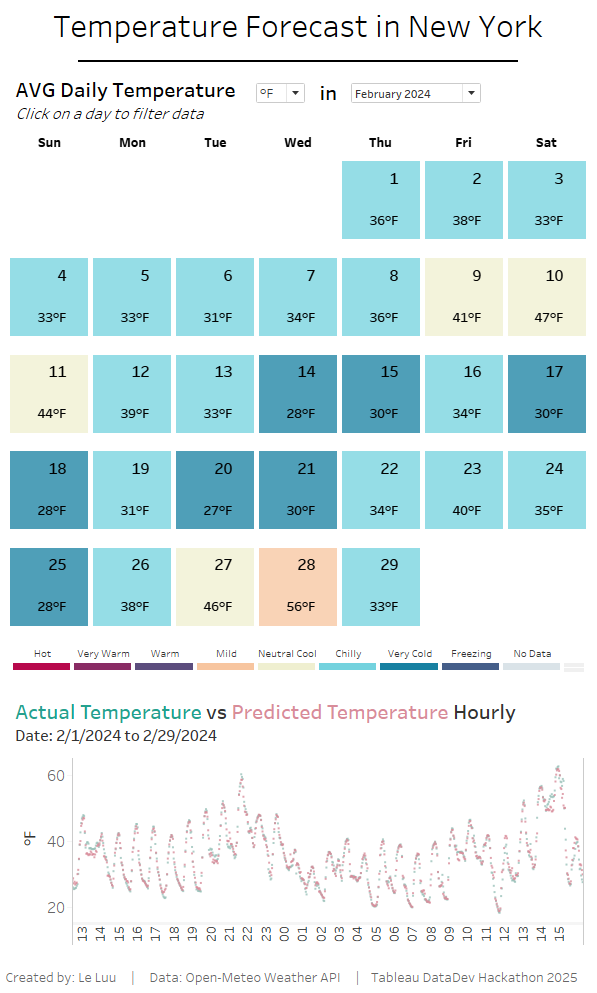

This screenshot's page, from the dashboard's own definition file:
{"tool":"tableau","page":{"name":"Temp Forecast","canvas":[600,1000],"ordinal":0},"visuals":[{"type":"text","box":[0,0,600,62]},{"type":"blank","box":[0,62,600,10]},{"type":"text","box":[10,78,241,56]},{"type":"parameter","param":"[Parameters].[Parameter 2]","box":[251,78,63,56]},{"type":"text","box":[314,78,32,56]},{"type":"filter","title":"Calendar","param":"[sqlproxy.06aflty0qioahp10ntb8f0ut0j5n].[time (Month / Year) Set]","box":[346,78,244,56]},{"type":"worksheet","title":"Calendar","mark":"Square","rows":["time"],"cols":["time"],"box":[0,138,600,503]},{"type":"worksheet","title":"Sheet 7","mark":"GanttBar","cols":["Calculation_1119988971004014603","Calculation_926897137326551072"],"box":[0,641,600,45]},{"type":"worksheet","title":"not_null","mark":"Circle","rows":["Calculation_926897137335386149"],"cols":["time"],"box":[0,682,600,284]},{"type":"worksheet","title":"incl_null","mark":"Circle","rows":["Calculation_926897137335107620","Calculation_926897137335386149"],"cols":["time"],"box":[0,686,600,280]},{"type":"text","box":[0,966,600,34]}]}

Visuals, with their boxes in screenshot pixels (x1, y1, x2, y2), scaled from the page's 600x1000 canvas onto the 597x993 screenshot:
text: 0/0/596/62
blank: 0/62/596/71
text: 10/77/250/133
parameter: 250/77/312/133
text: 312/77/344/133
"Calendar" filter: 344/77/587/133
"Calendar" worksheet (Square marks): 0/137/596/637
"Sheet 7" worksheet (GanttBar marks): 0/637/596/681
"not_null" worksheet (Circle marks): 0/677/596/959
"incl_null" worksheet (Circle marks): 0/681/596/959
text: 0/959/596/992
